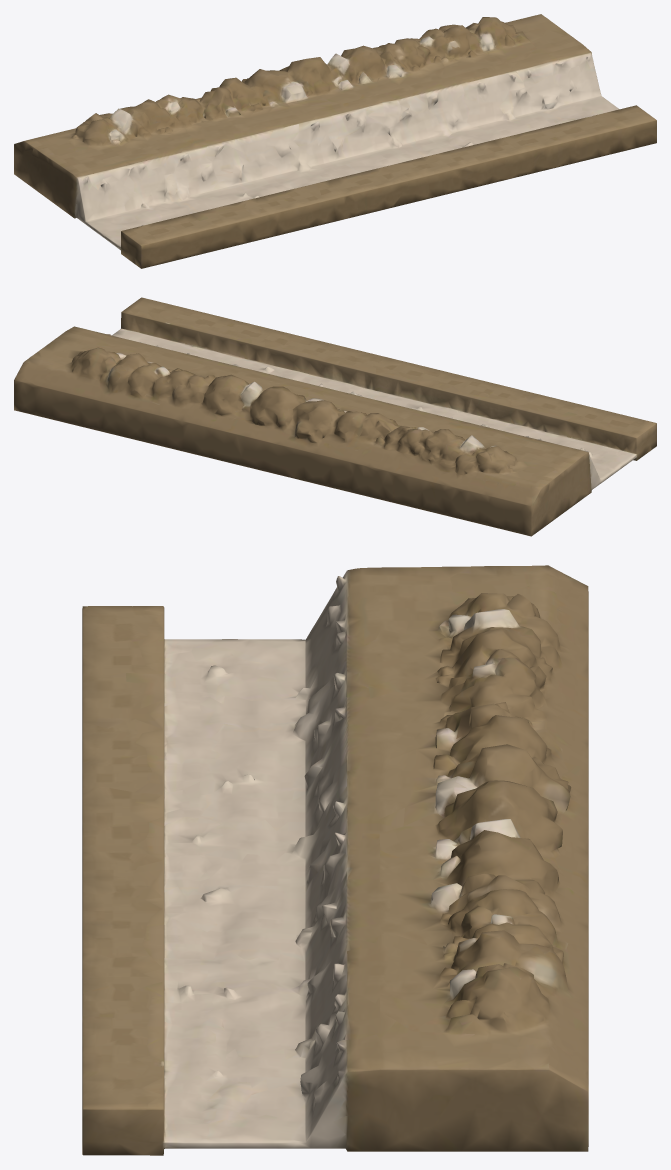
File: ditch_0.glb
The picture shows the model from 3 angles, top to bottom: view 1: azimuth 30°, elevation 25°; view 2: azimuth 150°, elevation 25°; view 3: azimuth 270°, elevation 25°; orthographic projection. The views are drawn at different scales.
Visible parts, largest first — view 1: ditch; view 2: ditch; view 3: ditch.
Boxes of the visible parts, x1=… form: ditch: x1=14, y1=14, x2=656, y2=268; ditch: x1=14, y1=297, x2=656, y2=536; ditch: x1=82, y1=565, x2=588, y2=1155.
Size of the model in its own units: 3 by 0.3724 by 1.27.
Materials: 1 (1 with a texture image).
